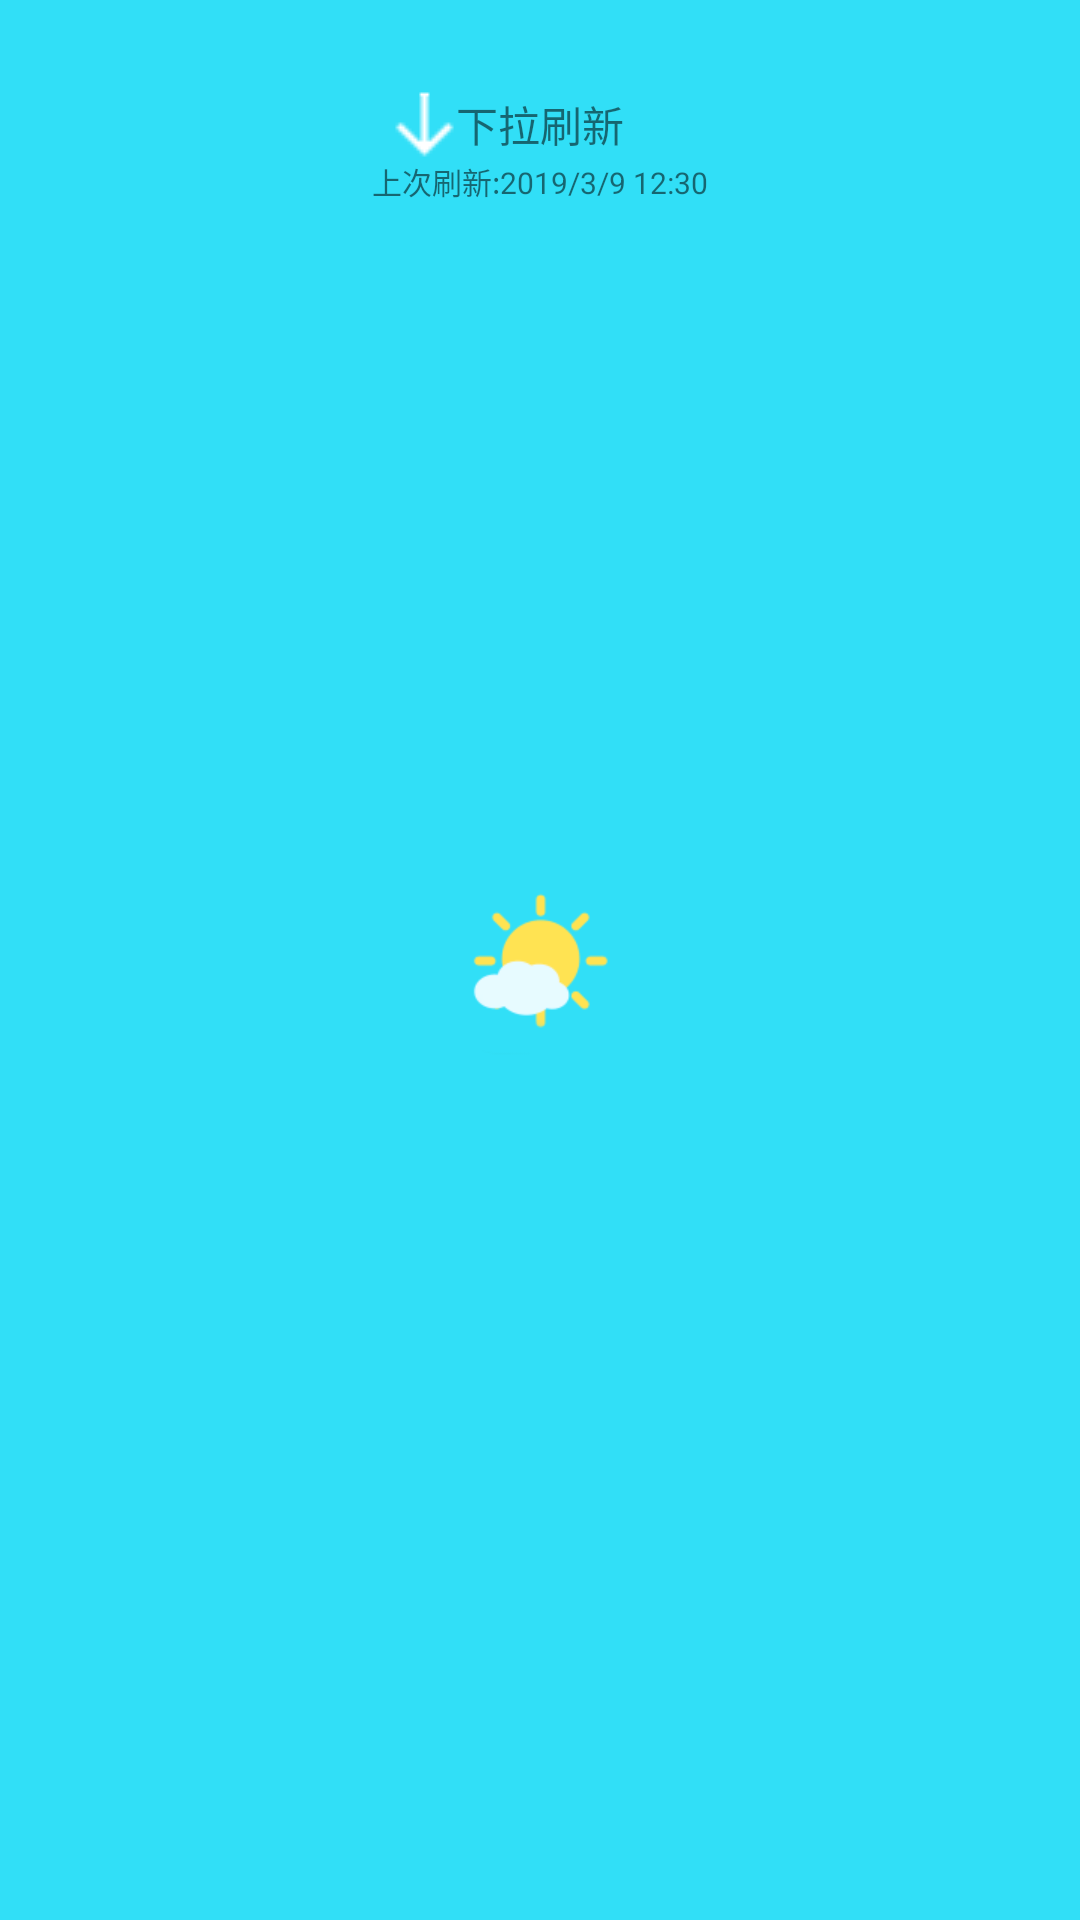

Icons on this 1080w x 1920h Android screen, each with the point to tap as [x,y]:
arrow down: [424,124]
